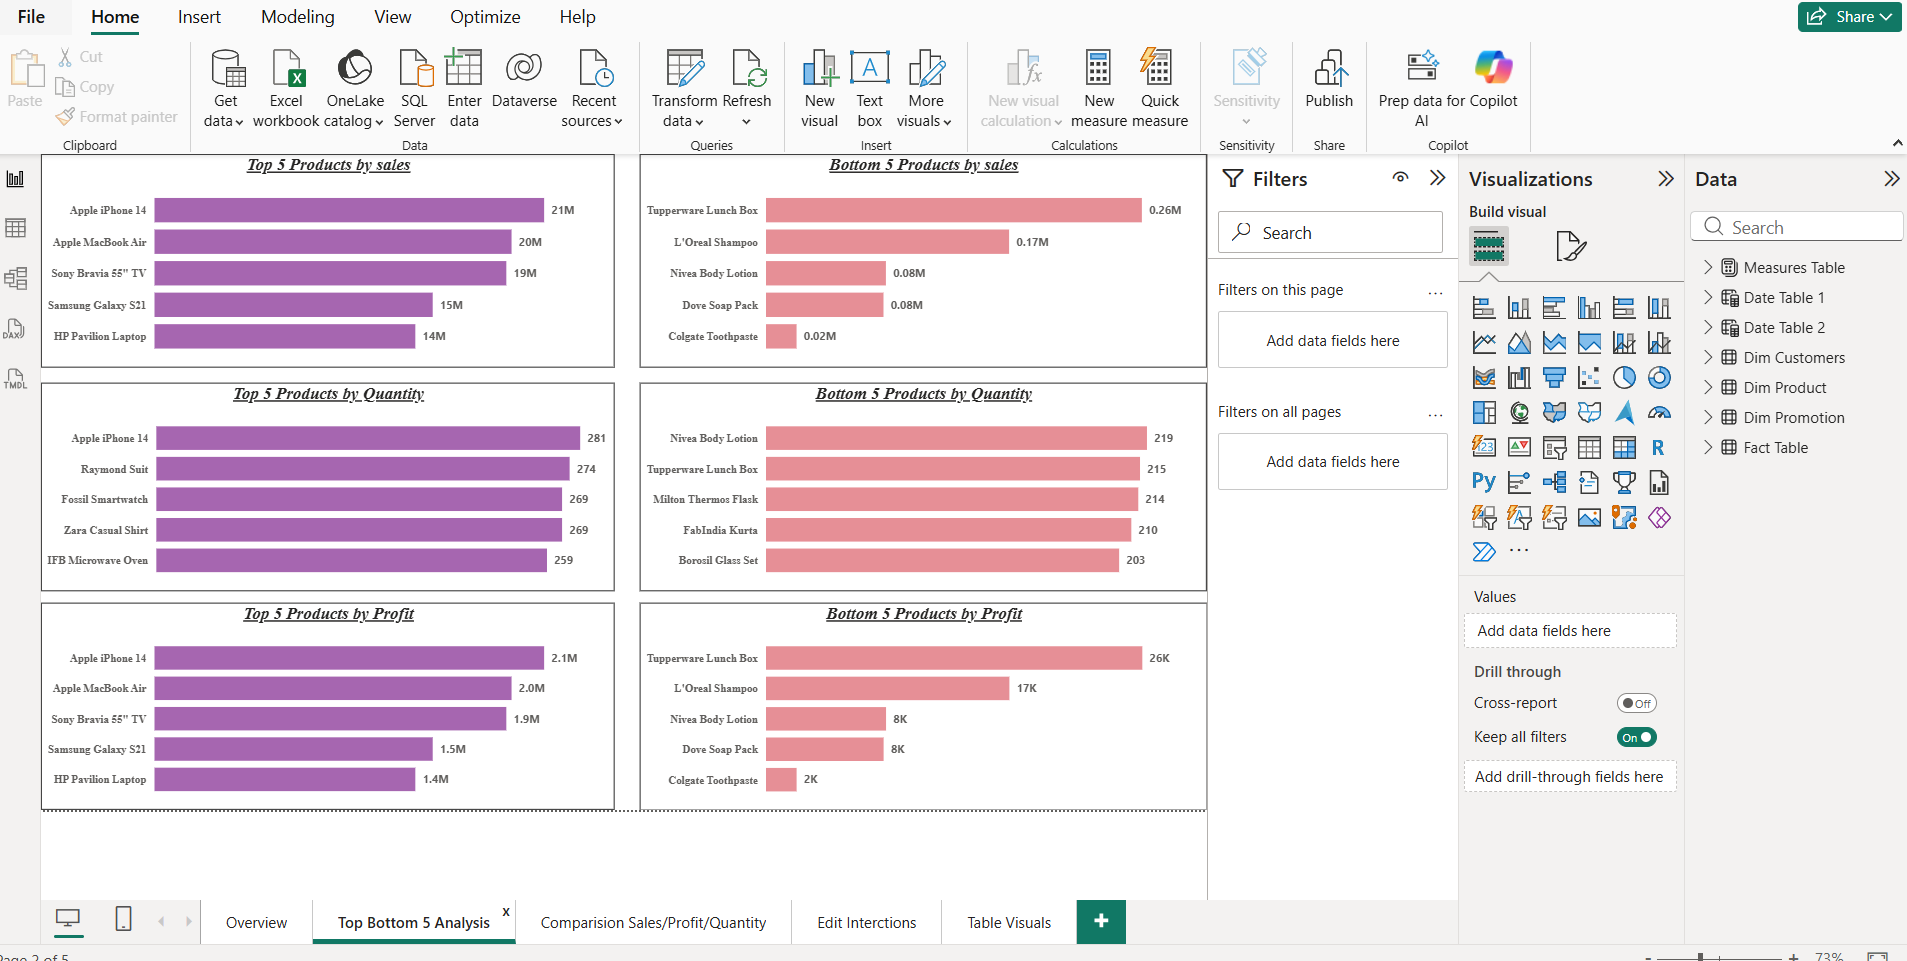

The dashboard page shown, as its layout file describes it:
{"tool":"powerbi","page":{"name":"Top Bottom 5 Analysis","canvas":[1280,720],"ordinal":1},"visuals":[{"type":"barChart","title":"Top 5 Products by sales","fields":{"Category":["Dim Product.Product Name"],"Y":["Sum(Fact Table.Net Sales   )"]},"box":[0,0,629.8,234.8],"z":0},{"type":"barChart","title":"Bottom 5 Products by sales","fields":{"Category":["Dim Product.Product Name"],"Y":["Sum(Fact Table.Net Sales   )"]},"box":[657.9,0,622.4,234.8],"z":1000},{"type":"barChart","title":"Top 5 Products by Quantity","fields":{"Category":["Dim Product.Product Name"],"Y":["Sum(Fact Table.Units Sold)"]},"box":[0,250.7,629.8,228.7],"z":2000},{"type":"barChart","title":"Bottom 5 Products by Quantity","fields":{"Category":["Dim Product.Product Name"],"Y":["Sum(Fact Table.Units Sold)"]},"box":[657.9,250.7,622.4,228.7],"z":3000},{"type":"barChart","title":"Top 5 Products by Profit","fields":{"Category":["Dim Product.Product Name"],"Y":["Sum(Fact Table.Profit)"]},"box":[0,492.8,629.8,227.4],"z":4000},{"type":"barChart","title":"Bottom 5 Products by Profit","fields":{"Category":["Dim Product.Product Name"],"Y":["Sum(Fact Table.Profit)"]},"box":[657.3,492.6,623,227.8],"z":5000}]}

Visuals, with their boxes on the page's 1280x720 design canvas (x1, y1, x2, y2). These are canvas units, not pixel positions in the 1907x961 screenshot, which may show the page scaled, cropped or inside an application window:
"Top 5 Products by sales" barChart: left=0, top=0, right=630, bottom=235
"Bottom 5 Products by sales" barChart: left=658, top=0, right=1280, bottom=235
"Top 5 Products by Quantity" barChart: left=0, top=251, right=630, bottom=479
"Bottom 5 Products by Quantity" barChart: left=658, top=251, right=1280, bottom=479
"Top 5 Products by Profit" barChart: left=0, top=493, right=630, bottom=720
"Bottom 5 Products by Profit" barChart: left=657, top=493, right=1280, bottom=720
